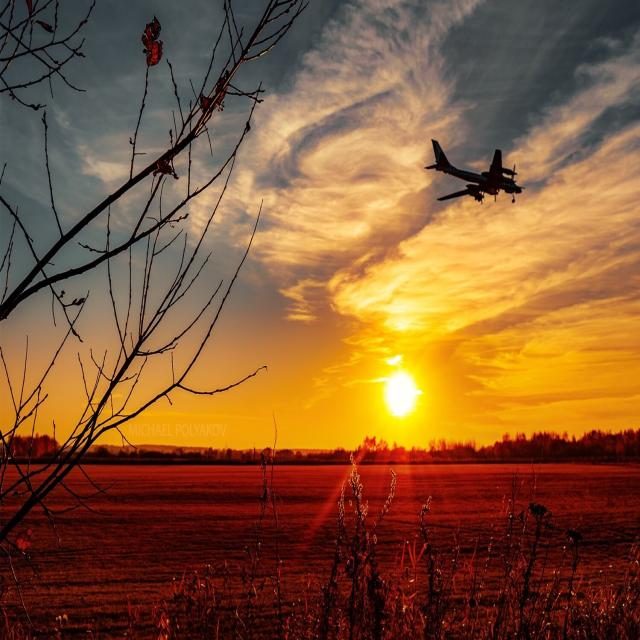MIL_Plane: (423, 138, 526, 205)
